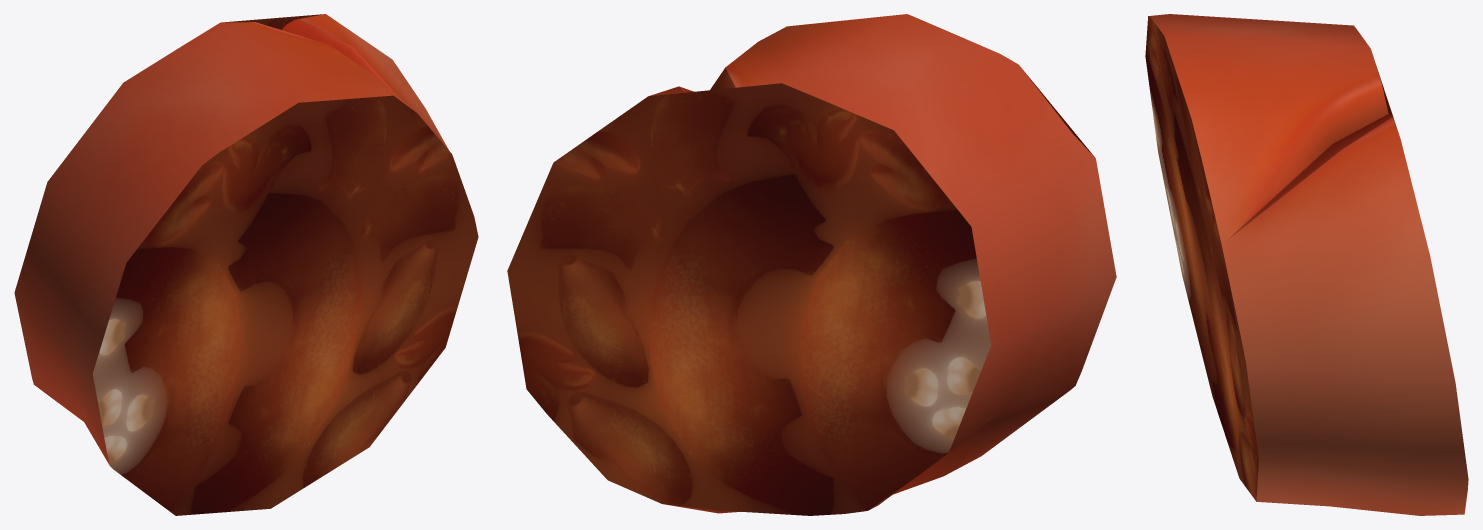
The model's file is Sausage08.fbx.
3 views of the same model, side by side, from view 1: azimuth 30°, elevation 25°; view 2: azimuth 150°, elevation 25°; view 3: azimuth 270°, elevation 25° (orthographic).
Parts seen in each view (by area): view 1: Sausage08; view 2: Sausage08; view 3: Sausage08.
Boxes of the visible parts, box(x1,y1,x2,y2) form: Sausage08: box(14, 14, 478, 515); Sausage08: box(507, 14, 1116, 515); Sausage08: box(1145, 14, 1468, 515).
Size of the model in its own units: 0.1353 by 0.12 by 0.0802.
